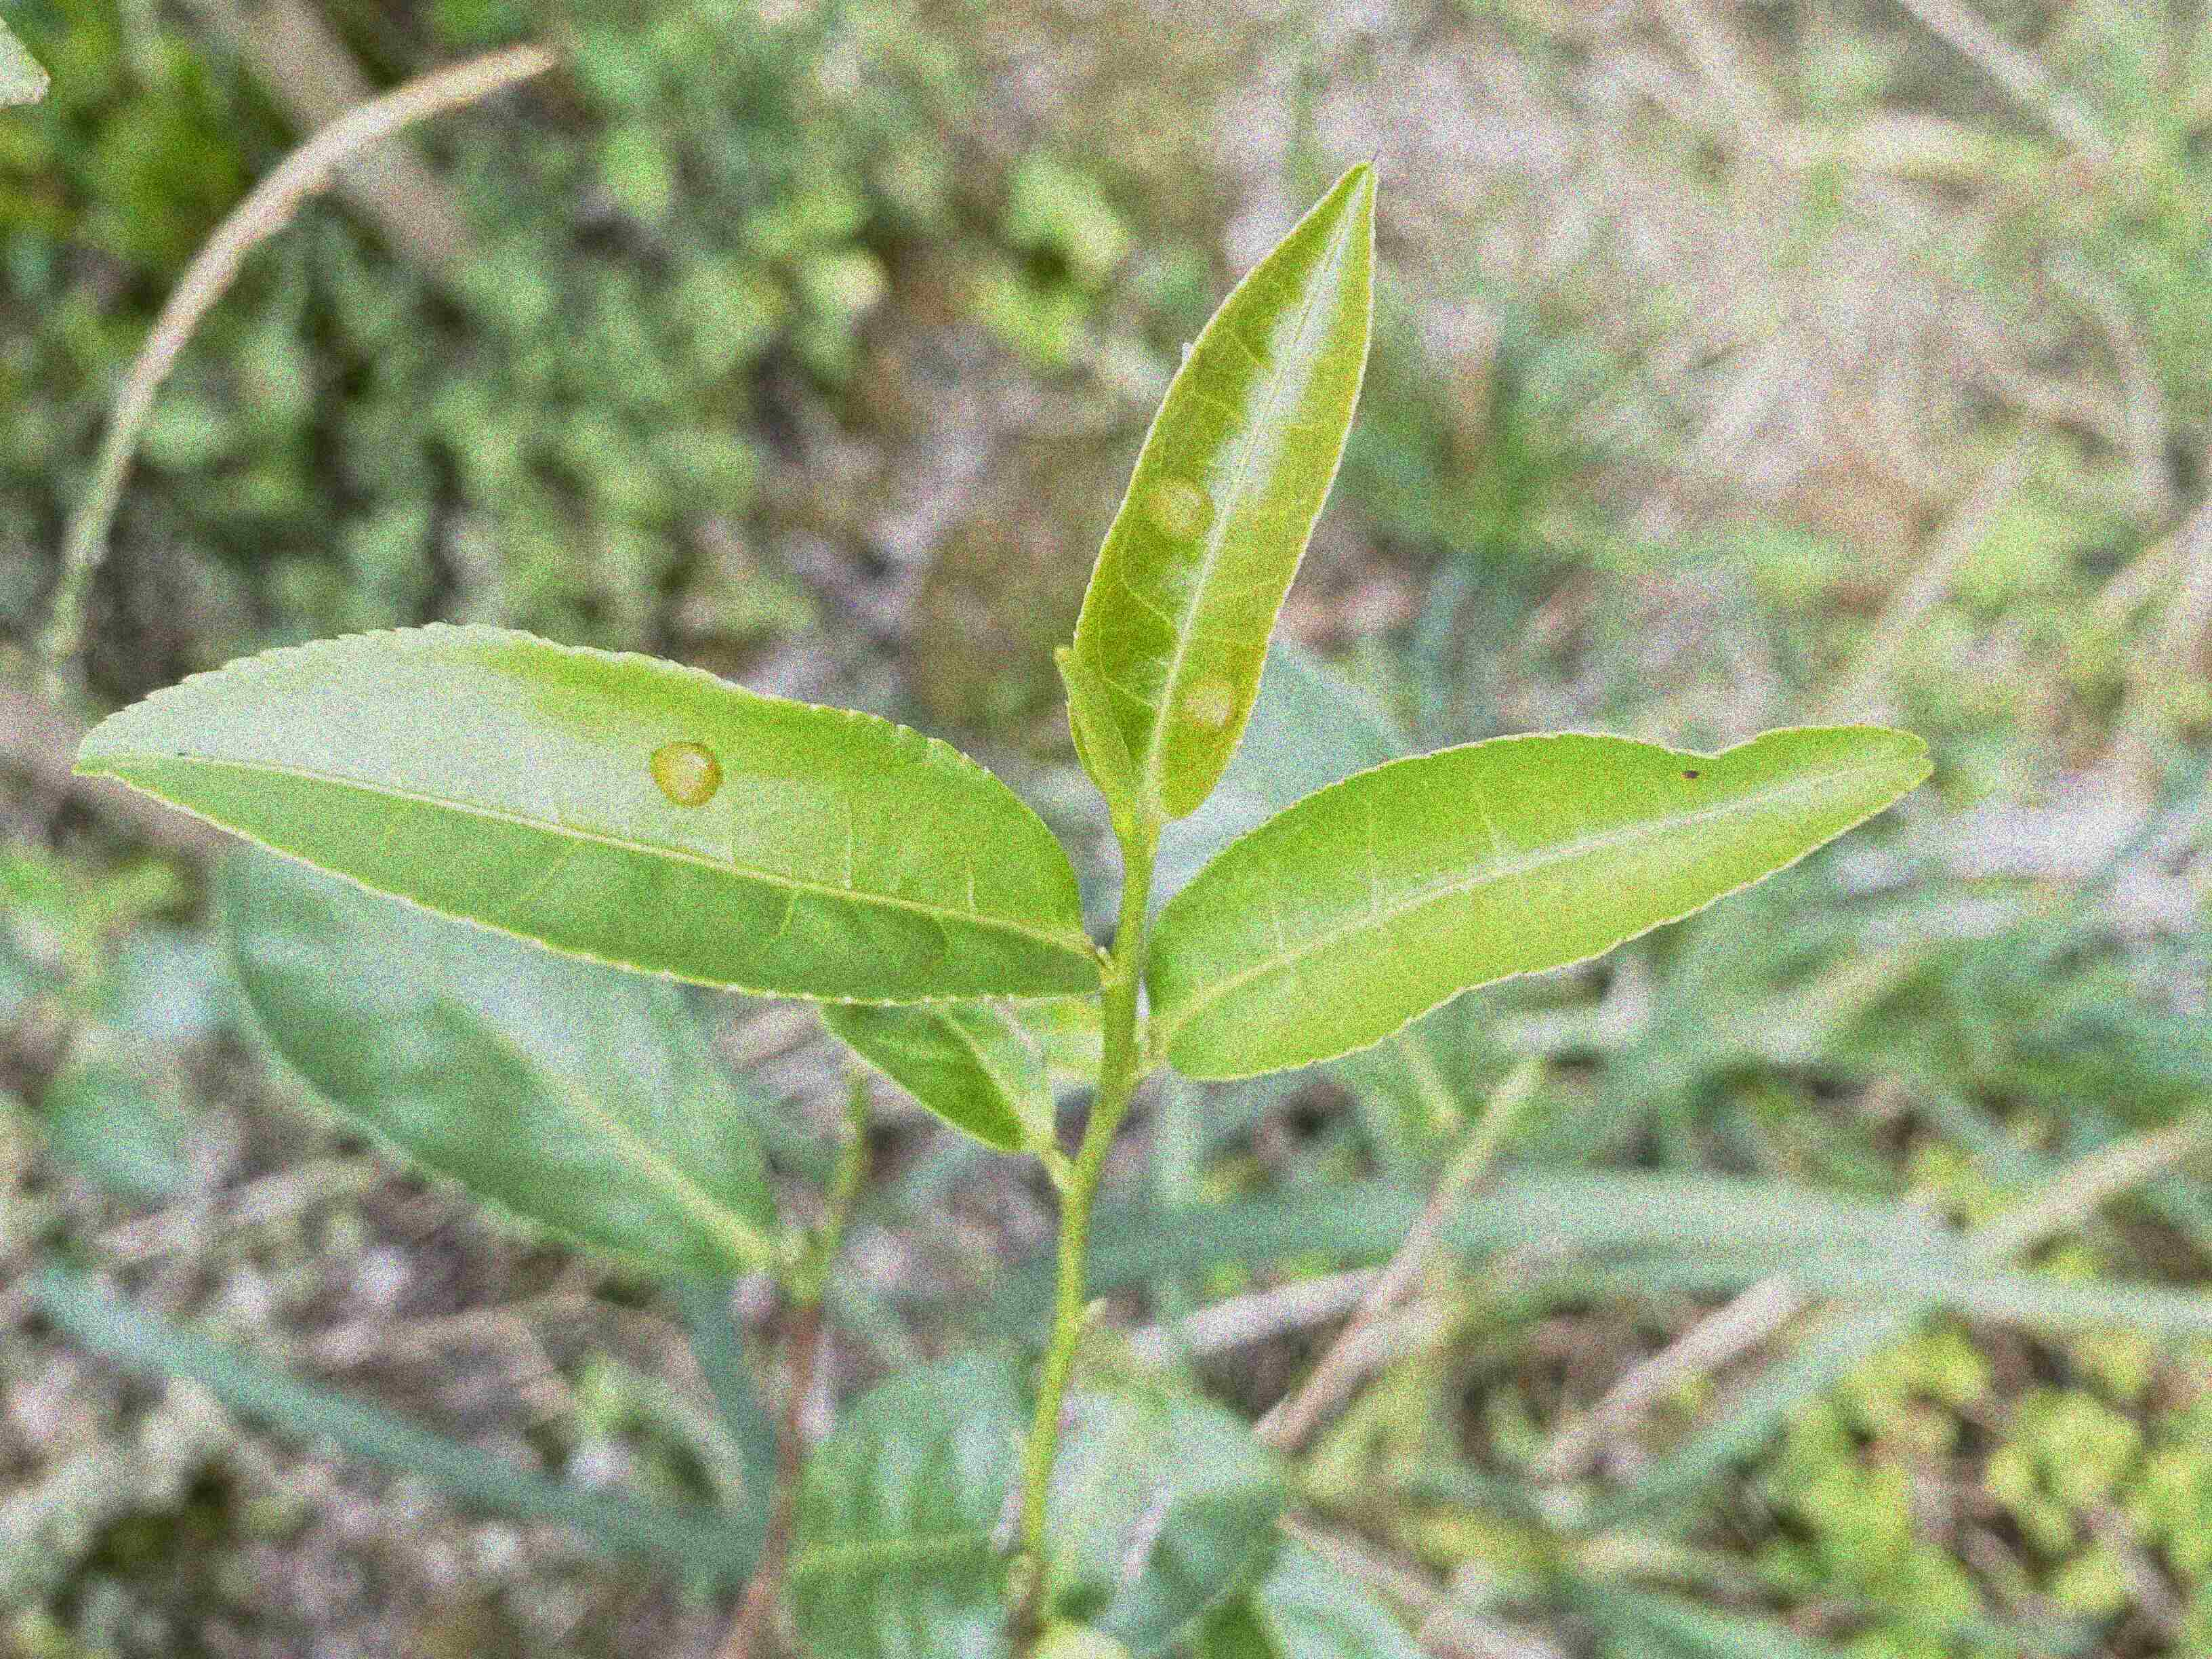chabing_high: (1068, 164, 1379, 824)
chabing_low: (71, 619, 1104, 1009)
tanju_low: (1144, 720, 1937, 1082), (820, 1000, 1059, 1154)
